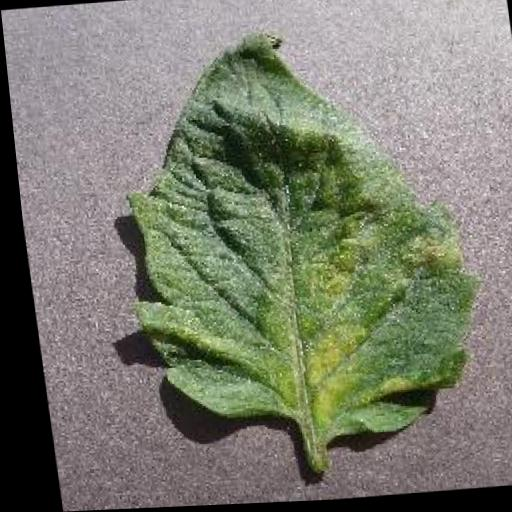Spider Mites: (93, 20, 488, 457)
